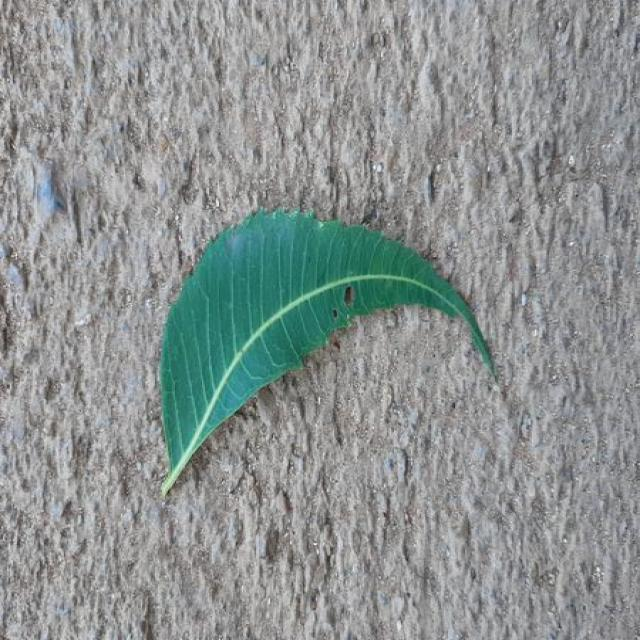neem: (160, 211, 495, 494)
